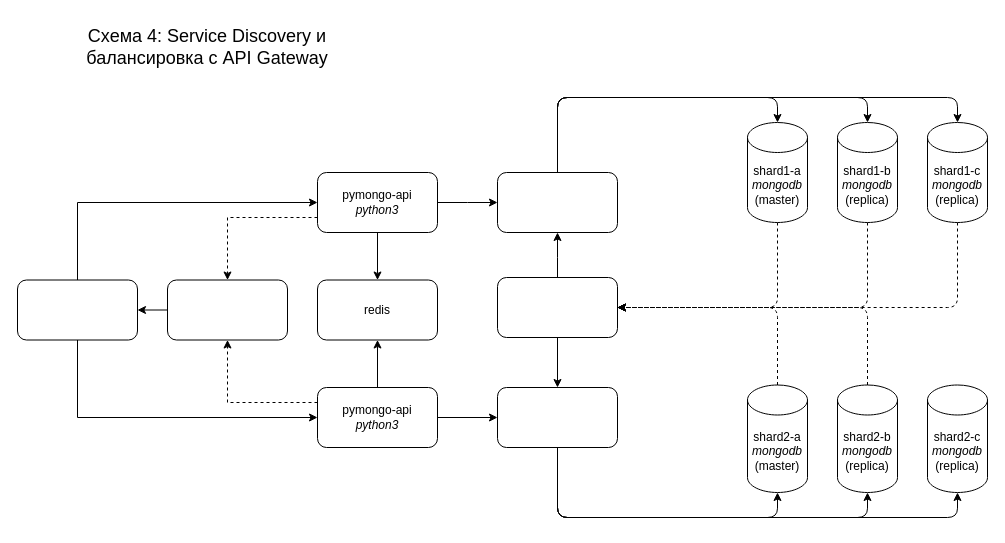
Some shapes in this 1005 by 543 pixel diagram are drawn without their labels. Each missing label, with the centre of its shape:
"Api Gateway" goes at point 77,309.
"configSrv mongodb" goes at point 557,307.
"mongos1 mongodb" goes at point 557,202.
"mongos2 mongodb" goes at point 557,417.
"Service Discovery ( Consul )" goes at point 227,309.
